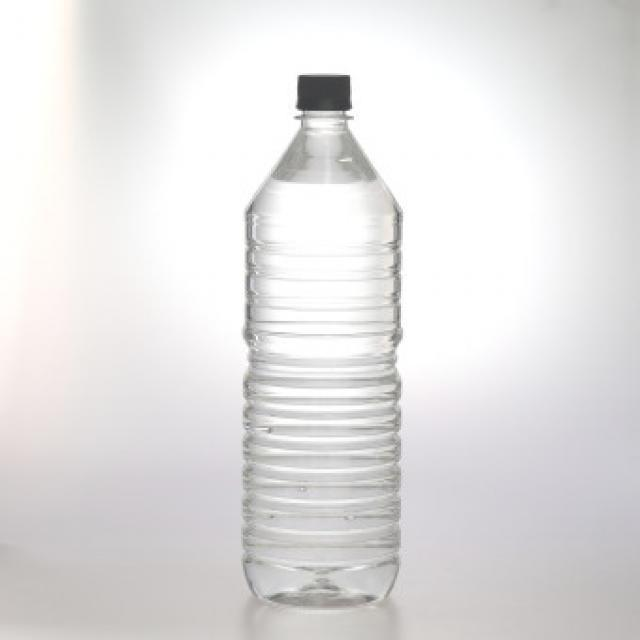plastic_bottle: (243, 71, 401, 606)
